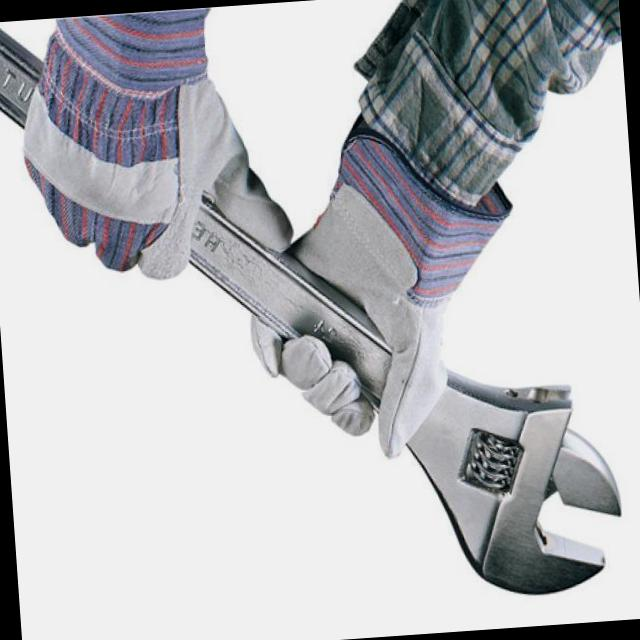wrench: (408, 374, 619, 594), (192, 197, 390, 401), (0, 31, 41, 127)
